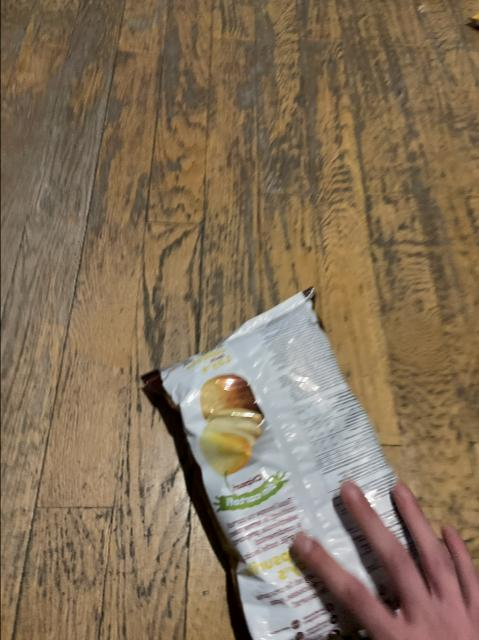Lays Beef Grilled Ribs 125g: (147, 285, 417, 640)
